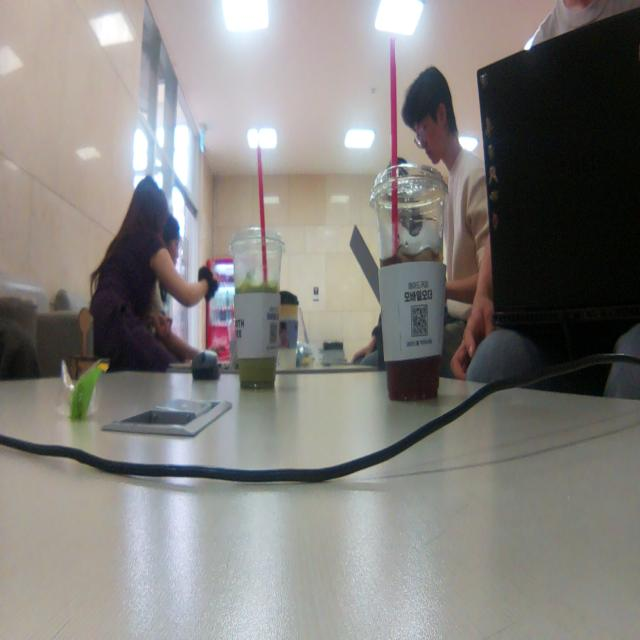target: (78, 307, 95, 363)
